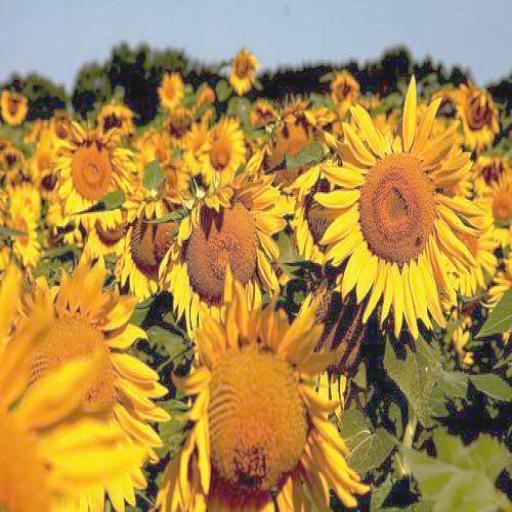sunflower: (180, 304, 362, 512), (325, 91, 478, 329), (1, 257, 134, 512), (168, 161, 282, 329), (51, 131, 130, 215), (117, 202, 182, 302), (262, 104, 338, 182), (473, 152, 512, 263), (194, 117, 248, 194), (461, 78, 501, 151), (229, 50, 260, 90), (159, 74, 182, 106)
